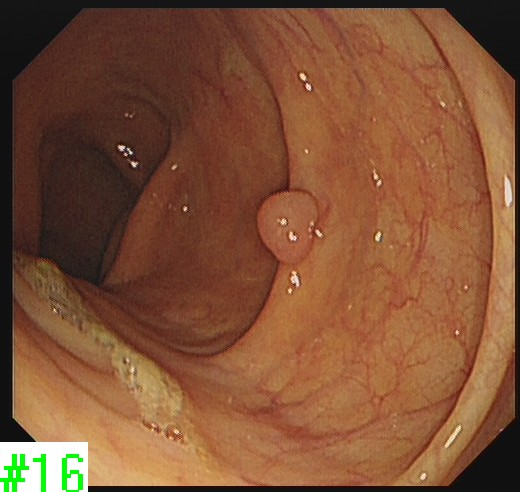adenoma: (253, 186, 322, 268)
